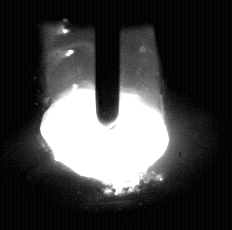arame: (96, 0, 121, 126)
poca: (40, 0, 171, 230)
